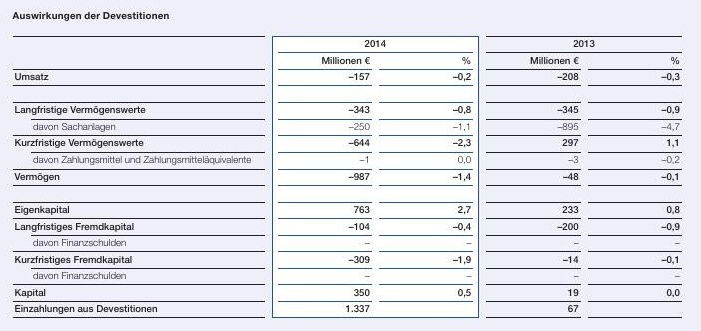table: (0, 0, 701, 331)
